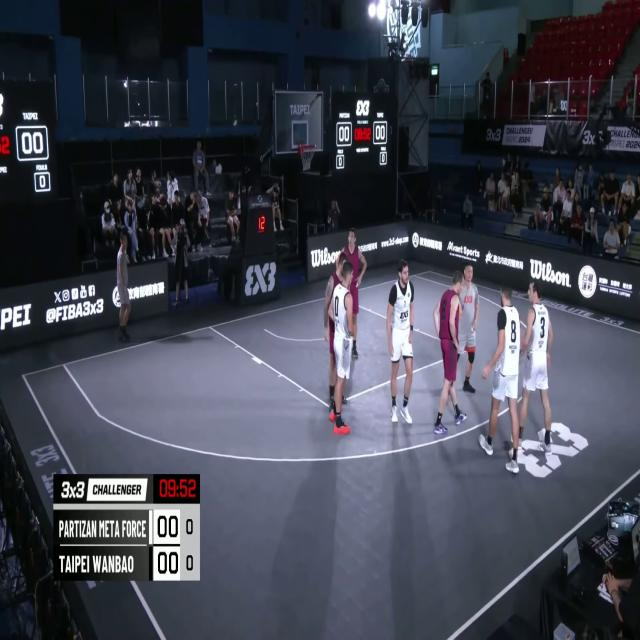ball: (450, 296, 466, 324)
hoop: (298, 139, 317, 174)
player: (511, 274, 555, 450), (482, 285, 522, 473), (434, 270, 467, 438), (324, 249, 354, 413), (386, 260, 414, 426), (330, 257, 354, 434), (338, 229, 368, 362), (454, 266, 479, 396)
